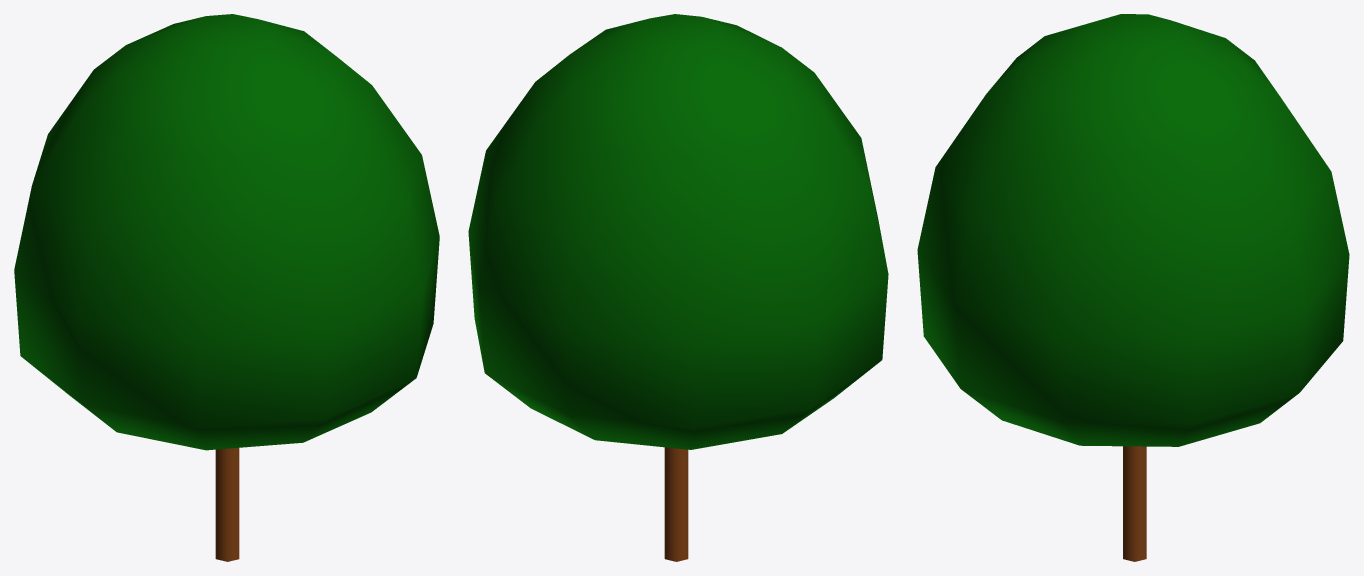
3 views of the same model, side by side, from view 1: azimuth 30°, elevation 25°; view 2: azimuth 150°, elevation 25°; view 3: azimuth 270°, elevation 25° (orthographic).
Parts seen in each view (by area): view 1: SketchUp, group_0; view 2: SketchUp, group_0; view 3: SketchUp, group_0.
Boxes of the visible parts, x1,y1,x2,y2 form: SketchUp: (14, 14, 439, 450); group_0: (215, 448, 239, 561); SketchUp: (468, 14, 888, 449); group_0: (664, 447, 688, 561); SketchUp: (917, 14, 1349, 446); group_0: (1123, 446, 1146, 561).
Bounding box in the file's own units: 151 × 157 × 210.
